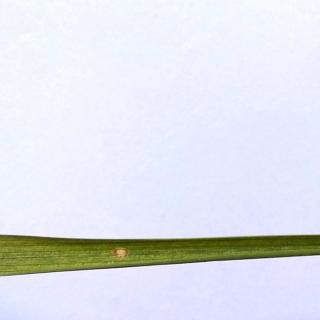Blast: (112, 244, 128, 260)
